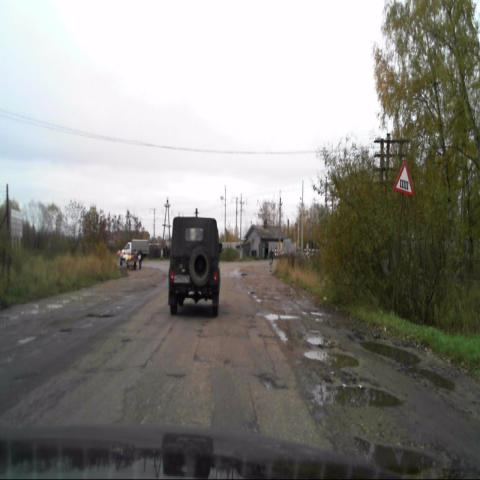1_1: (393, 162, 413, 195)
